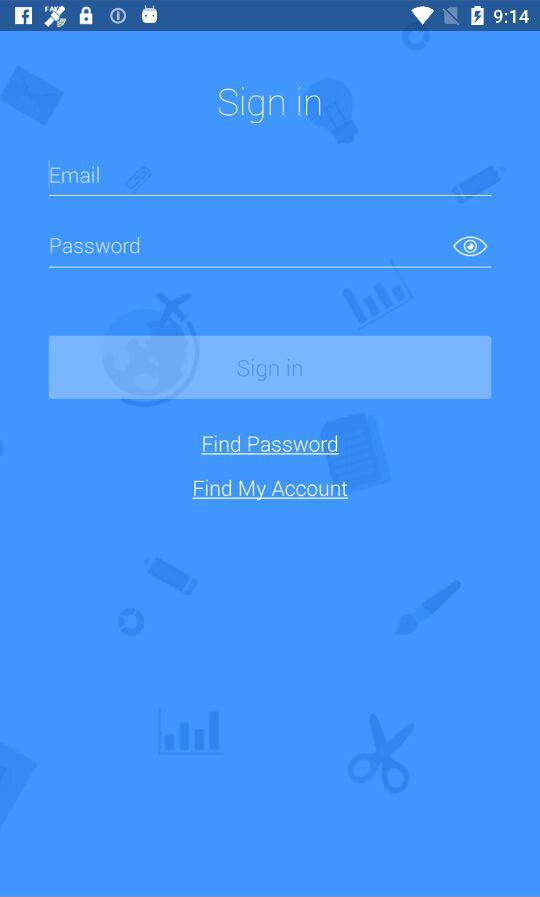EditText: (49, 236, 493, 269), (49, 165, 492, 198)
Icon: (452, 236, 488, 258)
Text: (218, 86, 322, 126), (192, 479, 350, 502), (201, 434, 341, 457), (51, 237, 141, 256), (51, 165, 101, 185)
TextButton: (49, 336, 492, 400)
UpperTaskBar: (1, 1, 540, 33)
